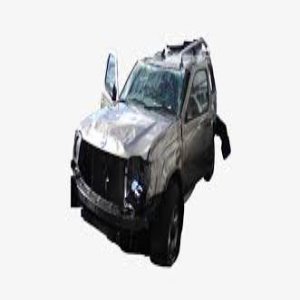bonnet: (88, 107, 170, 158)
